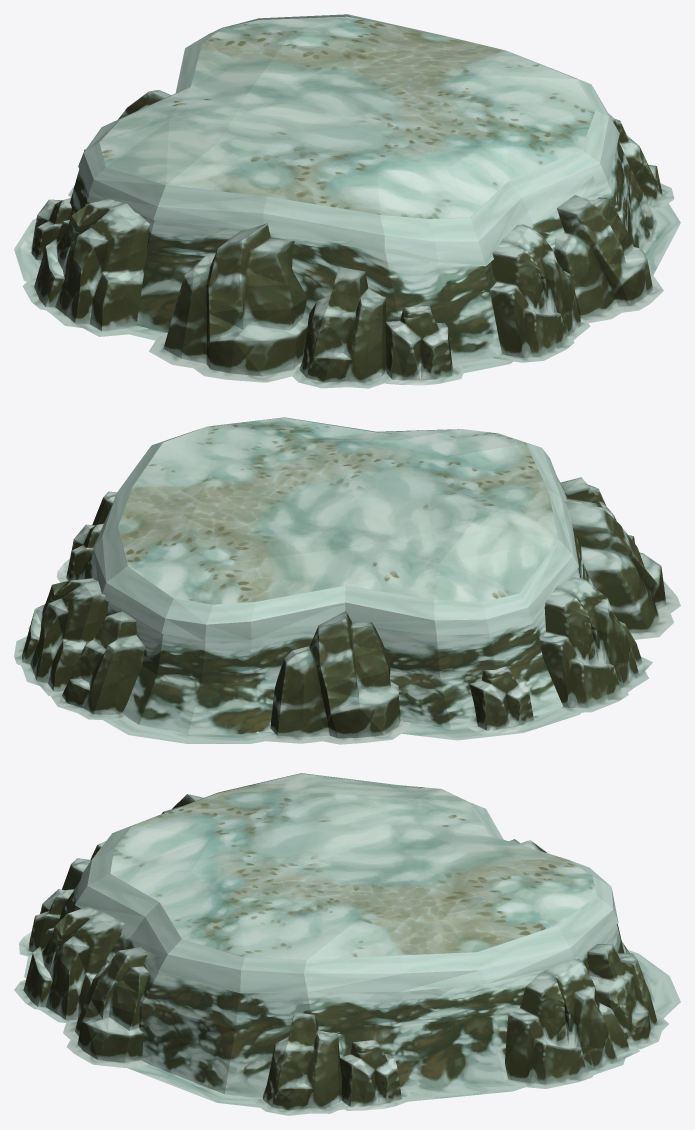
File: berm_mesa_1.fbx
3 renders of one model, top to bottom at view 1: azimuth 30°, elevation 25°; view 2: azimuth 150°, elevation 25°; view 3: azimuth 270°, elevation 25°, orthographic. The views are drawn at different scales.
Parts seen in each view (by area): view 1: obj3.001; view 2: obj3.001; view 3: obj3.001.
Part boxes in pixels (<box>): obj3.001: <box>14,14,680,388</box>; obj3.001: <box>14,417,680,744</box>; obj3.001: <box>14,773,680,1115</box>.
Size of the model in its own units: 21.96 by 4.69 by 22.45.
